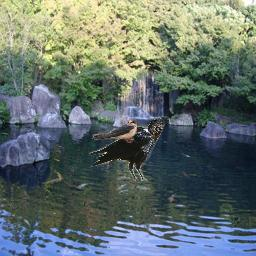Crow: (87, 116, 170, 181)
Swallow: (92, 118, 137, 143)
